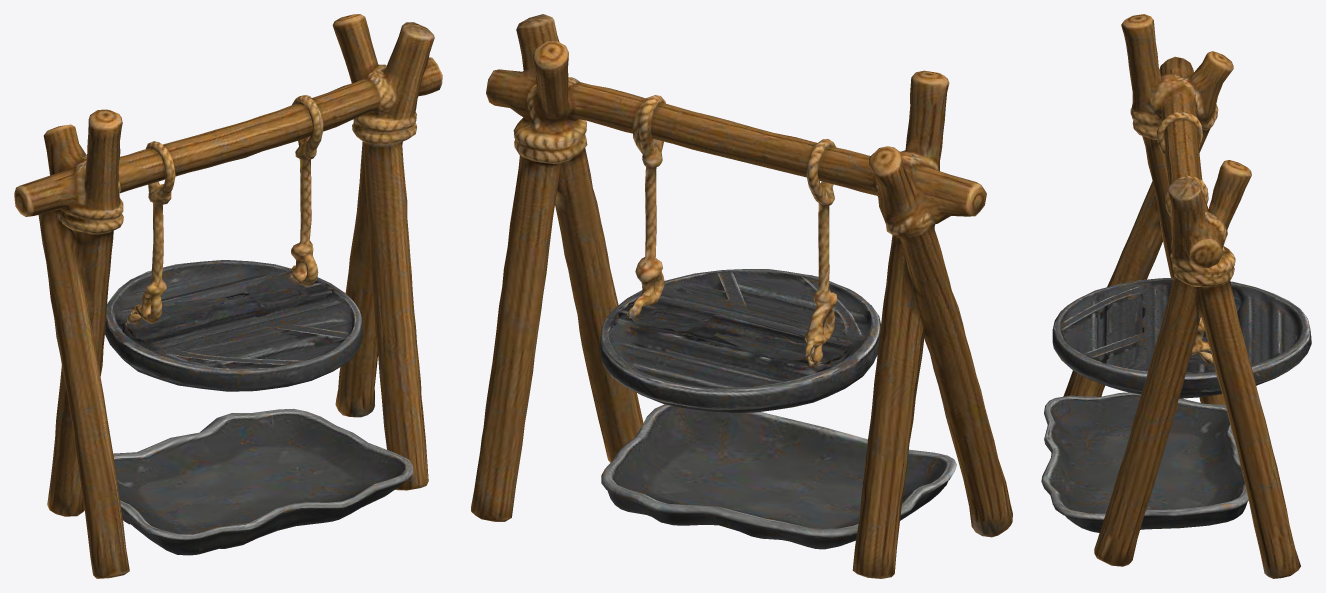
File: grill.glb
The picture shows the model from 3 angles, left to right: view 1: azimuth 30°, elevation 25°; view 2: azimuth 150°, elevation 25°; view 3: azimuth 270°, elevation 25°; orthographic projection. The views are drawn at different scales.
Size of the model in its own units: 1.91 by 1.85 by 1.1.
1 material, 1 textured.
